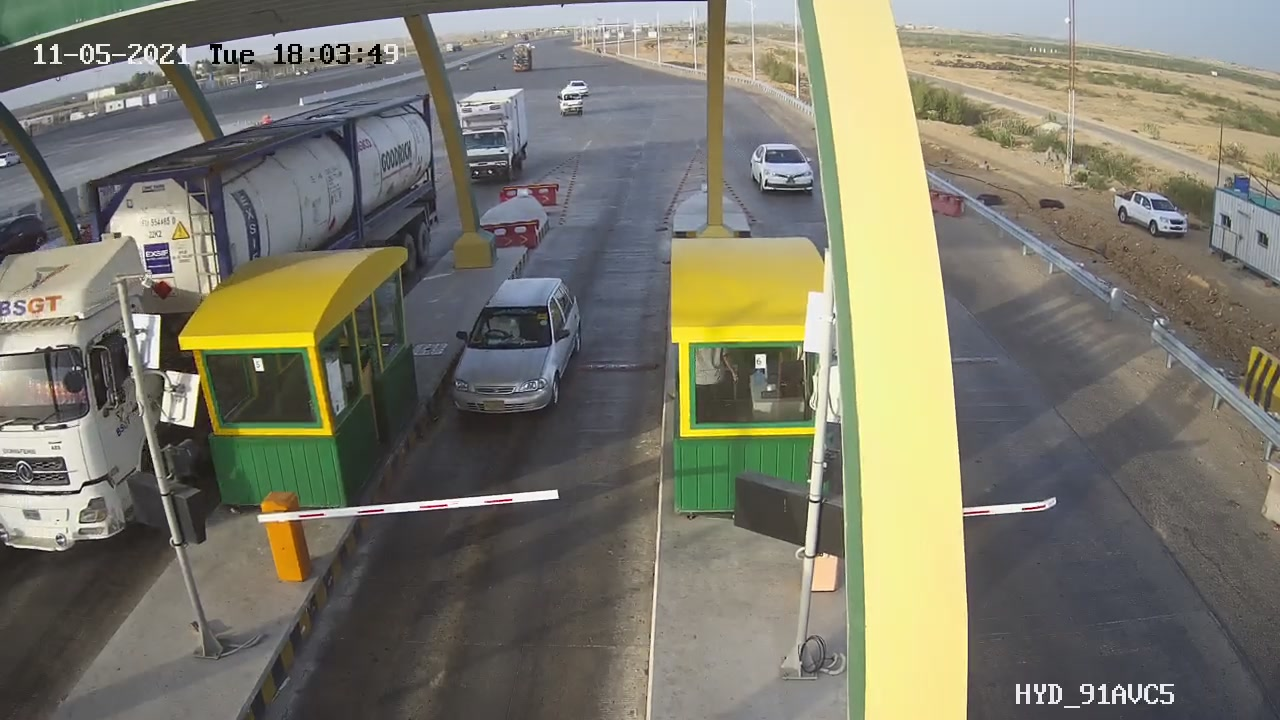F1: (433, 264, 603, 440)
